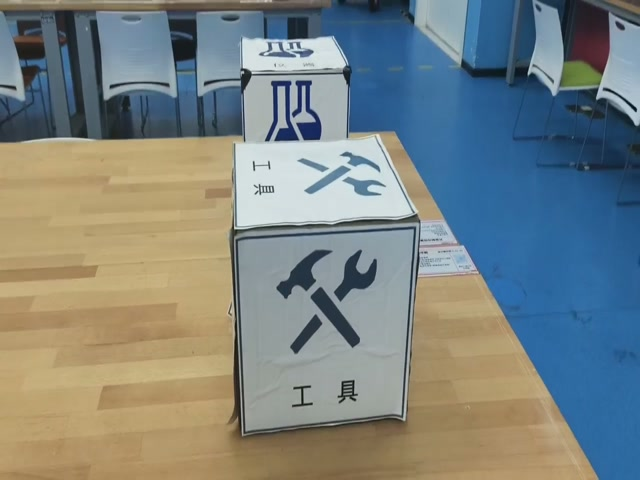Cube_ins: (241, 37, 348, 69)
Cube_tool: (232, 136, 419, 233)
